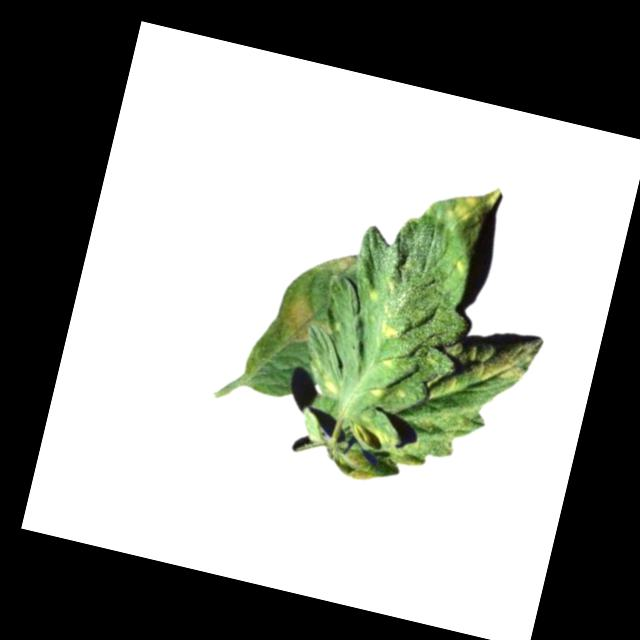Leaf_Mold: (461, 322, 544, 391), (273, 291, 323, 347), (346, 418, 390, 452), (444, 186, 480, 227), (341, 448, 382, 483), (375, 318, 401, 342), (368, 381, 382, 396)
